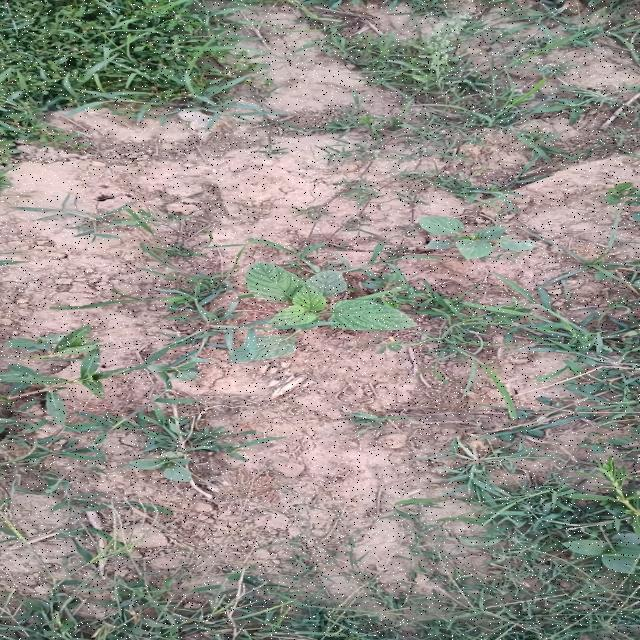plant: (247, 262, 416, 331)
